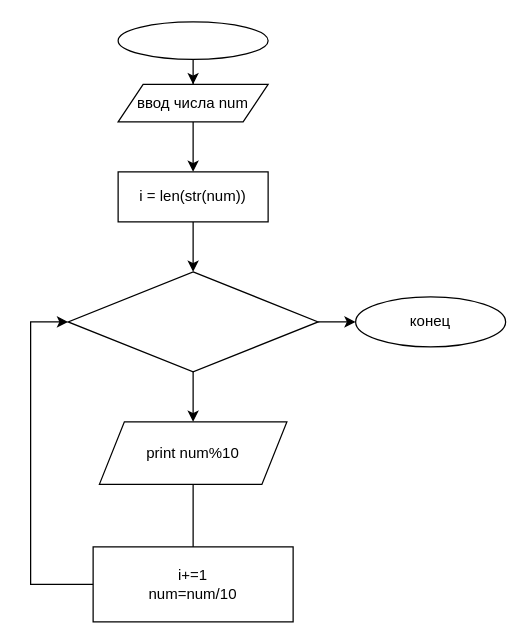
Image size: 528x644. Some labels were removed from this diagram. Here are the shapes that lost their labels. From the top down, the centre of each, then its label:
At [192,40]: "начало".
At [192,321]: "if i>0".
